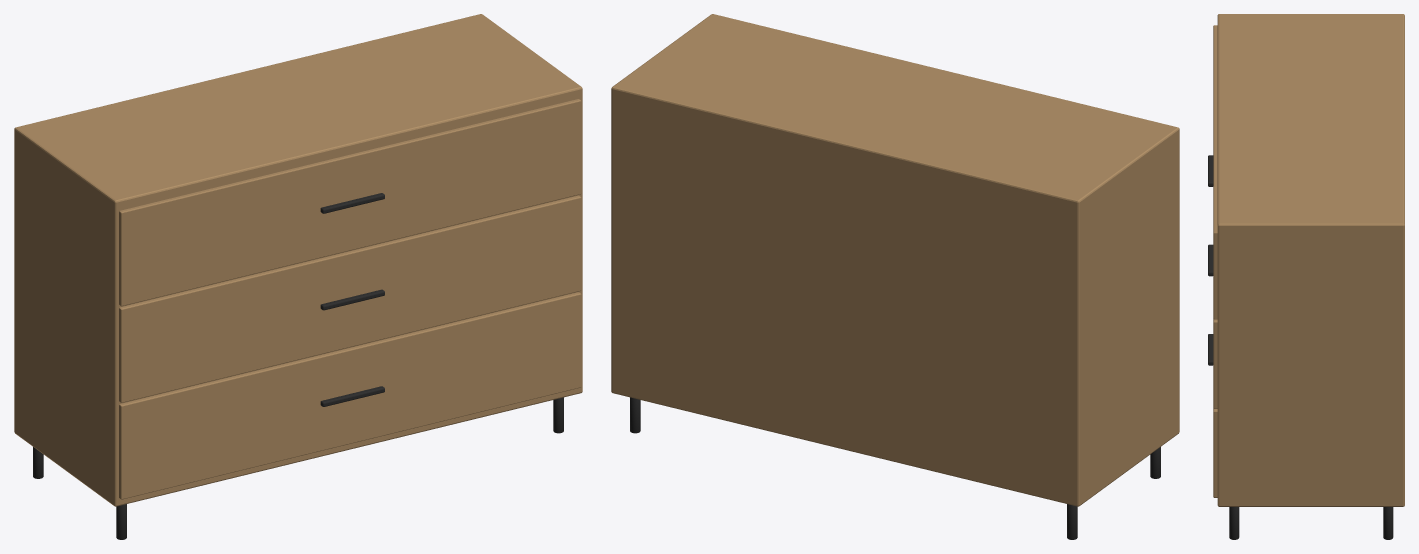
The model's file is kommode.glb.
3 views of the same model, side by side, from view 1: azimuth 30°, elevation 25°; view 2: azimuth 150°, elevation 25°; view 3: azimuth 270°, elevation 25° (orthographic). The views are drawn at different scales.
Parts seen in each view (by area): view 1: Korpus, Lade0, Lade1, Lade2; view 2: Korpus; view 3: Korpus, Lade2, Lade0, Lade1, Bein1, Bein3.
Boxes of the visible parts, bbox=[...] form: Korpus: bbox=[14, 14, 582, 506]; Lade0: bbox=[119, 292, 581, 499]; Lade1: bbox=[119, 195, 581, 402]; Lade2: bbox=[119, 99, 581, 306]; Korpus: bbox=[611, 14, 1179, 506]; Korpus: bbox=[1217, 14, 1404, 506]; Lade2: bbox=[1213, 25, 1217, 319]; Lade0: bbox=[1213, 408, 1217, 497]; Lade1: bbox=[1213, 319, 1217, 408]; Bein1: bbox=[1229, 507, 1239, 539]; Bein3: bbox=[1383, 507, 1393, 539].
Bounding box in the file's own units: 1.2 × 0.85 × 0.473.
